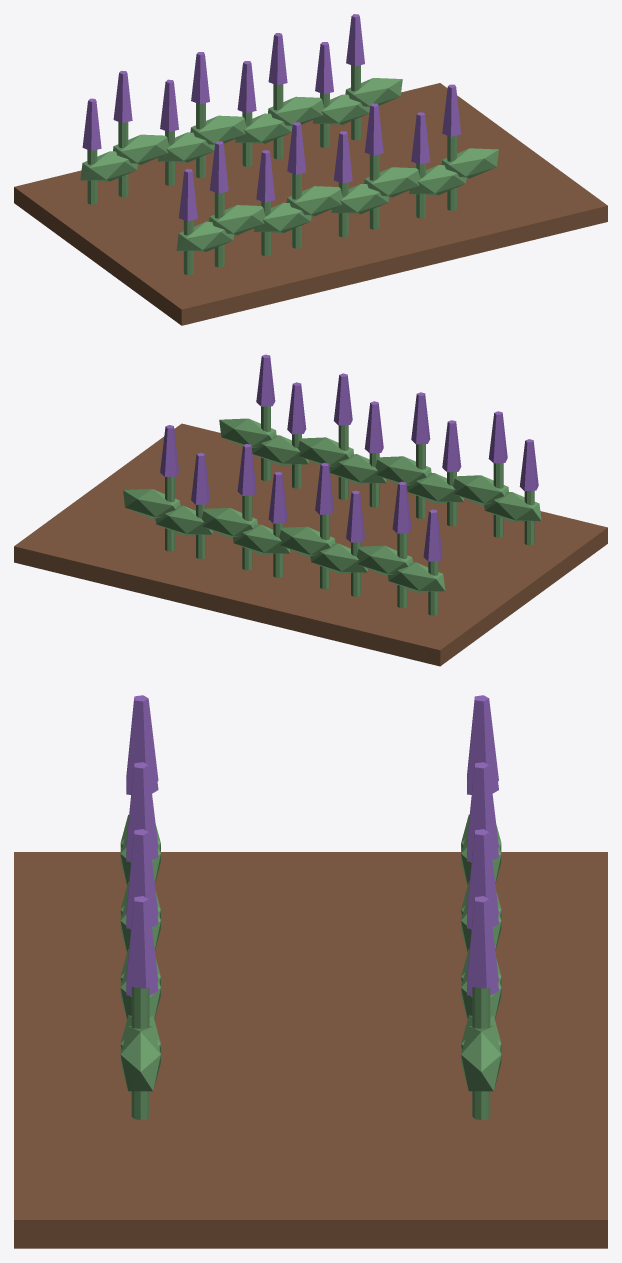
File: nature_lavender.glb
3 views of the same model, one above another, from view 1: azimuth 30°, elevation 25°; view 2: azimuth 150°, elevation 25°; view 3: azimuth 270°, elevation 25° (orthographic). The views are drawn at different scales.
Parts seen in each view (by area): view 1: nature_lavender; view 2: nature_lavender; view 3: nature_lavender.
Boxes of the visible parts, x1=… form: nature_lavender: x1=14, y1=14, x2=607, y2=325; nature_lavender: x1=14, y1=354, x2=607, y2=666; nature_lavender: x1=14, y1=695, x2=607, y2=1248.
Size of the model in its own units: 2.2 by 0.685 by 1.5.
